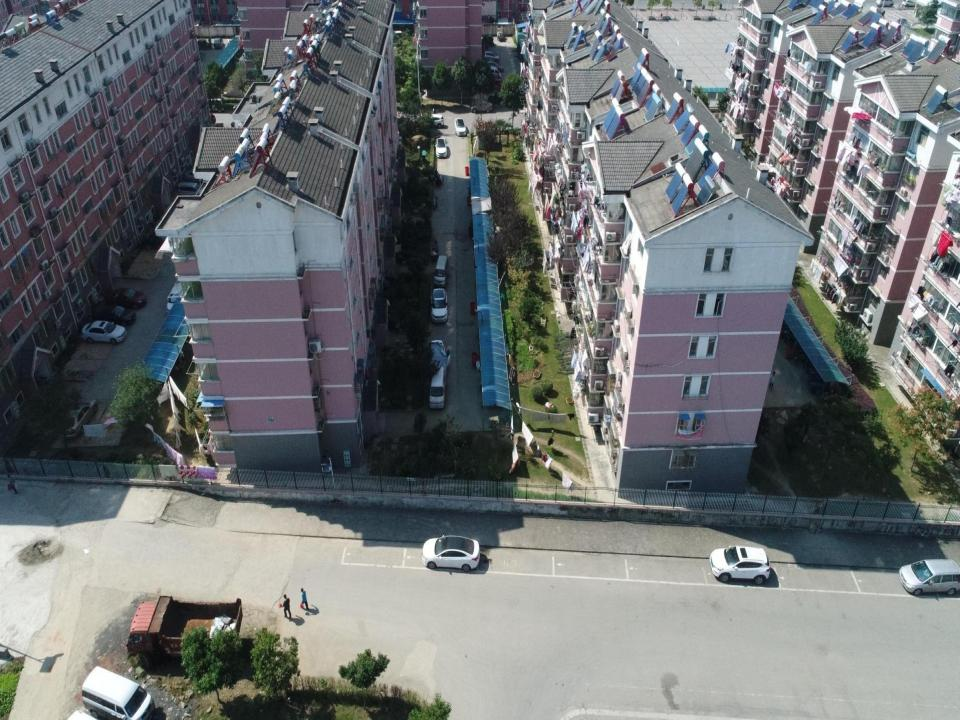car: (128, 595, 242, 666), (898, 558, 959, 598), (710, 543, 770, 582), (424, 533, 480, 572), (59, 394, 98, 443), (80, 319, 128, 348), (88, 300, 137, 328), (106, 286, 148, 310), (425, 338, 448, 371), (430, 286, 448, 324), (416, 111, 444, 130), (470, 100, 493, 114), (482, 56, 502, 69), (435, 136, 447, 157), (483, 49, 501, 63), (454, 117, 466, 137), (184, 166, 194, 180), (213, 36, 223, 49), (902, 0, 916, 7), (898, 17, 910, 25)
van: (81, 664, 156, 719), (429, 364, 444, 410), (433, 255, 449, 286), (200, 97, 226, 113), (166, 282, 180, 311), (177, 180, 201, 195), (483, 65, 502, 78), (231, 102, 248, 112), (875, 0, 894, 7)
